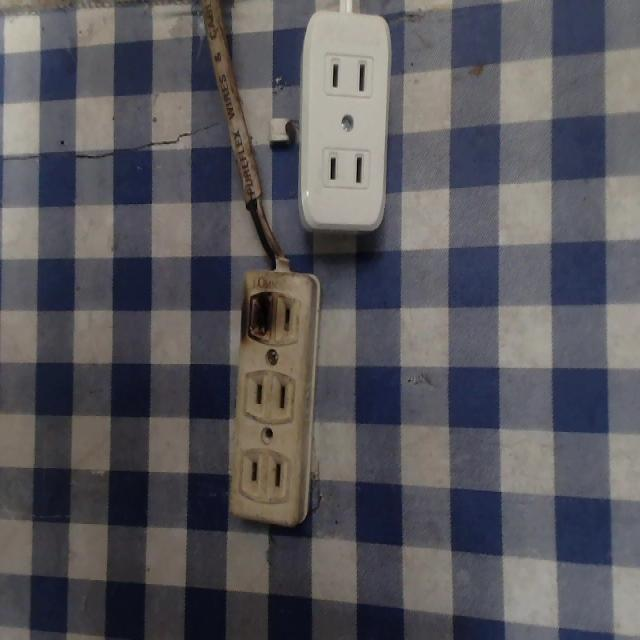-: (237, 289, 280, 347)
